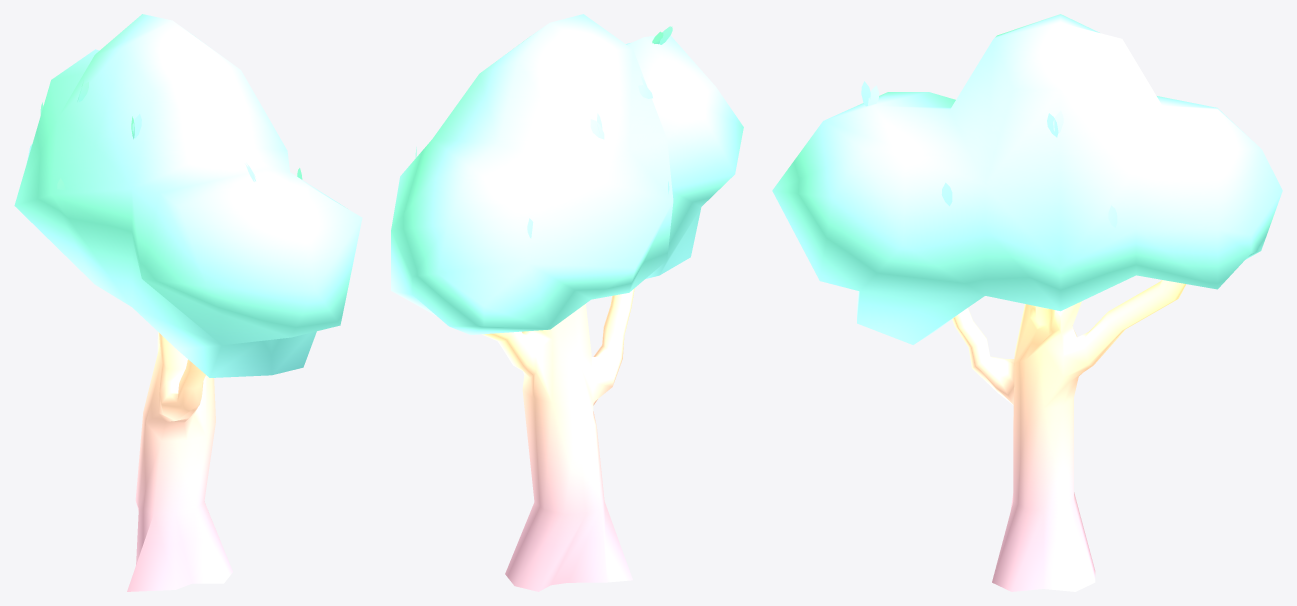
File: Tree_0.glb
3 renders of one model, left to right at view 1: azimuth 30°, elevation 25°; view 2: azimuth 150°, elevation 25°; view 3: azimuth 270°, elevation 25°, orthographic. The views are drawn at different scales.
Visible parts, largest first — view 1: Tree1_Material #22_0; view 2: Tree1_Material #22_0; view 3: Tree1_Material #22_0.
Part boxes in pixels (x1,y1,x2,y2): Tree1_Material #22_0: [14, 14, 362, 591]; Tree1_Material #22_0: [391, 14, 743, 591]; Tree1_Material #22_0: [772, 14, 1282, 591].
Size of the model in its own units: 4.58 by 10.33 by 8.68.
